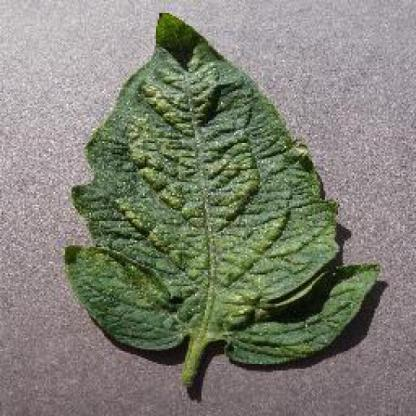Tomato_Spider_Mites: (66, 13, 377, 365)
